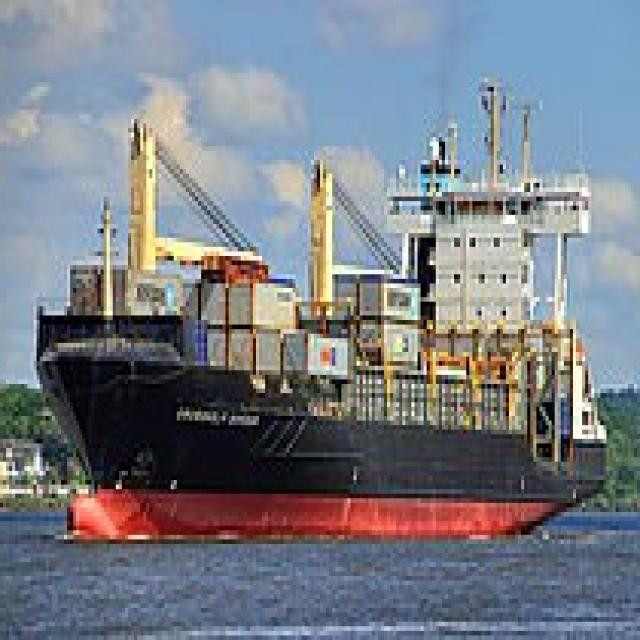Cargo: (34, 68, 616, 535)
